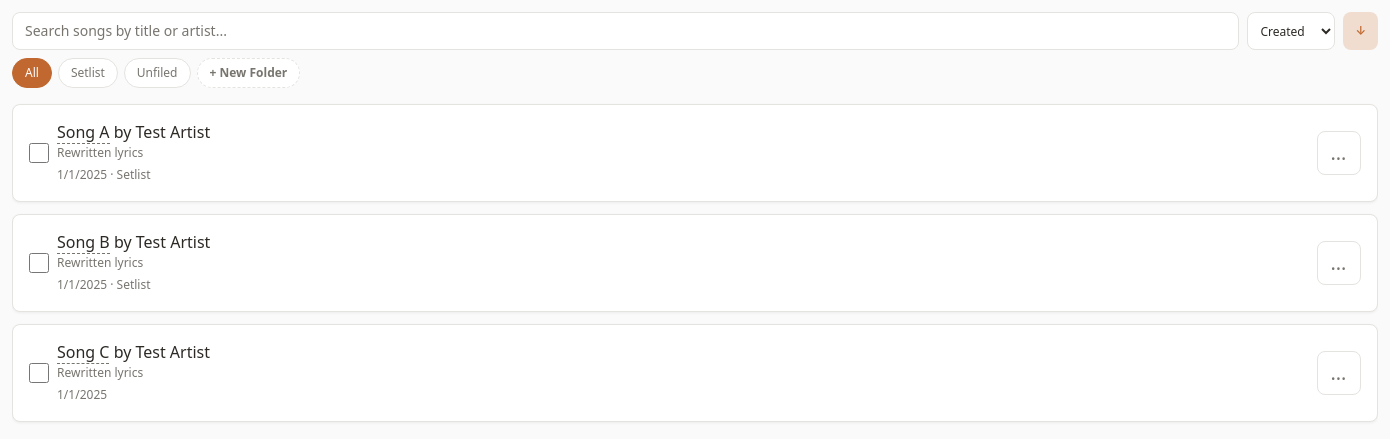
Test case: LibraryTab folder pills › clicking a folder pill filters songs without showing a dropdown menu
Expected: the text "Song A" is shown, [57, 121, 110, 144]
Expected: the text "Song B" is shown, [57, 231, 110, 254]
// Click the "Setlist" folder pill
Click the button with test id "folder-pill-Setlist".
click(88, 73)  # box [58, 58, 118, 88]
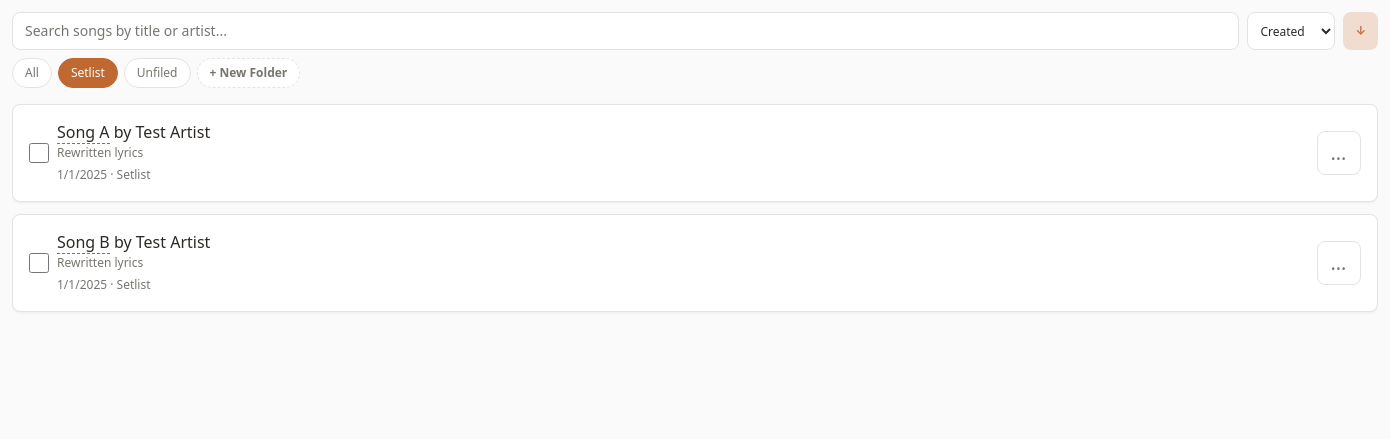
Expected: the text "Song A" is shown, [57, 121, 110, 144]
Expected: the text "Song C" is gone
